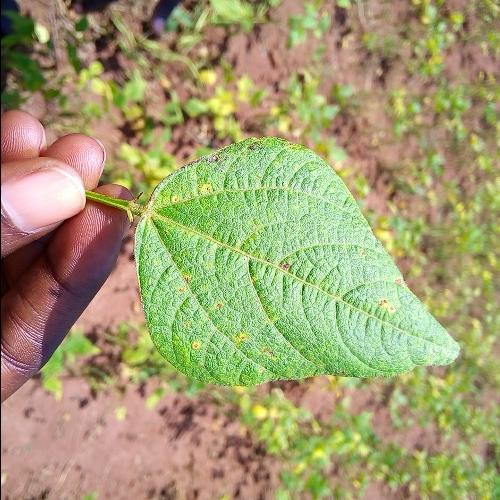hawar: (123, 151, 420, 396)
